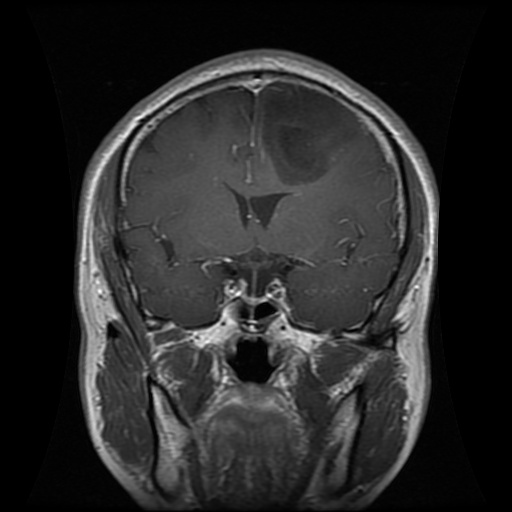glioma: (256, 80, 362, 187)
